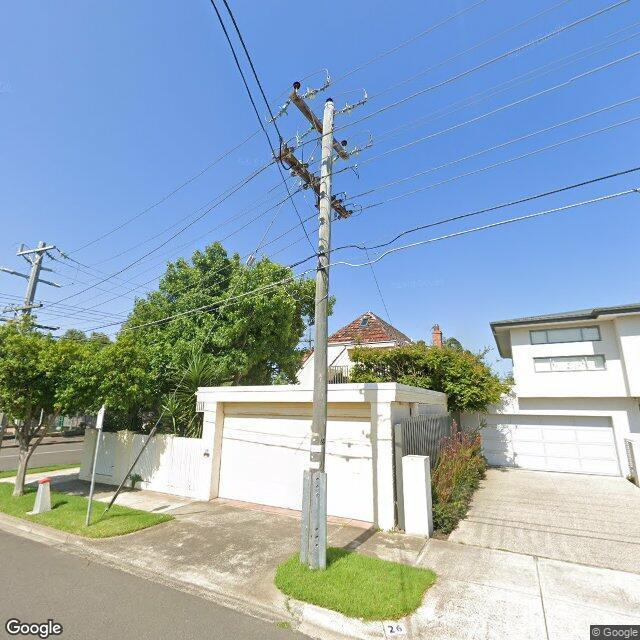HV-transmission: (277, 81, 373, 159), (16, 243, 68, 265)
crossarm: (280, 151, 350, 218), (290, 92, 349, 158), (0, 267, 60, 288), (0, 318, 60, 330), (16, 244, 56, 256), (3, 303, 42, 312)
timber-pole: (302, 102, 336, 570), (21, 242, 47, 314)
